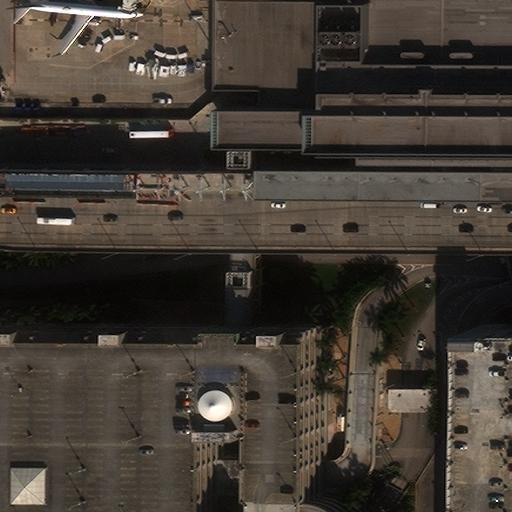Medium Civil Transport: (14, 0, 143, 55)
